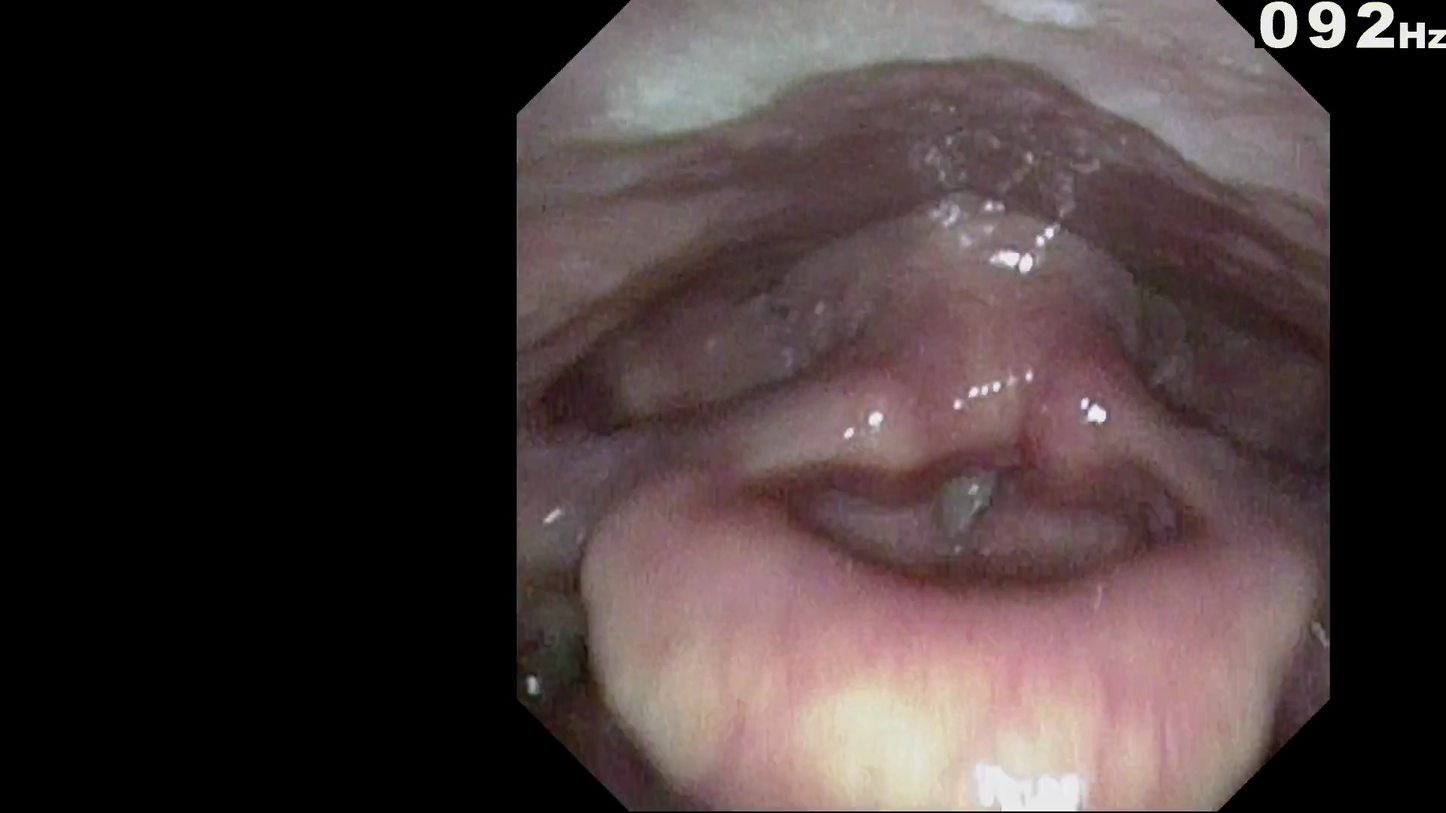epiglottis: (613, 348, 1226, 581)
